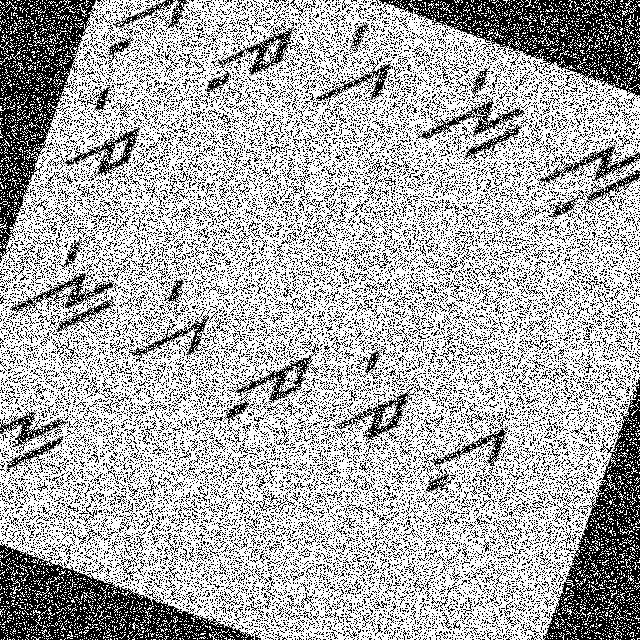ge: (113, 246, 230, 389), (304, 10, 414, 140)
gu: (409, 397, 520, 519), (87, 0, 204, 85)
nge: (0, 210, 143, 357), (404, 46, 547, 188)
ngu: (515, 108, 639, 254), (0, 365, 85, 514)
te: (55, 67, 163, 202), (320, 341, 428, 466)
tu: (204, 319, 328, 459), (195, 1, 308, 122)
